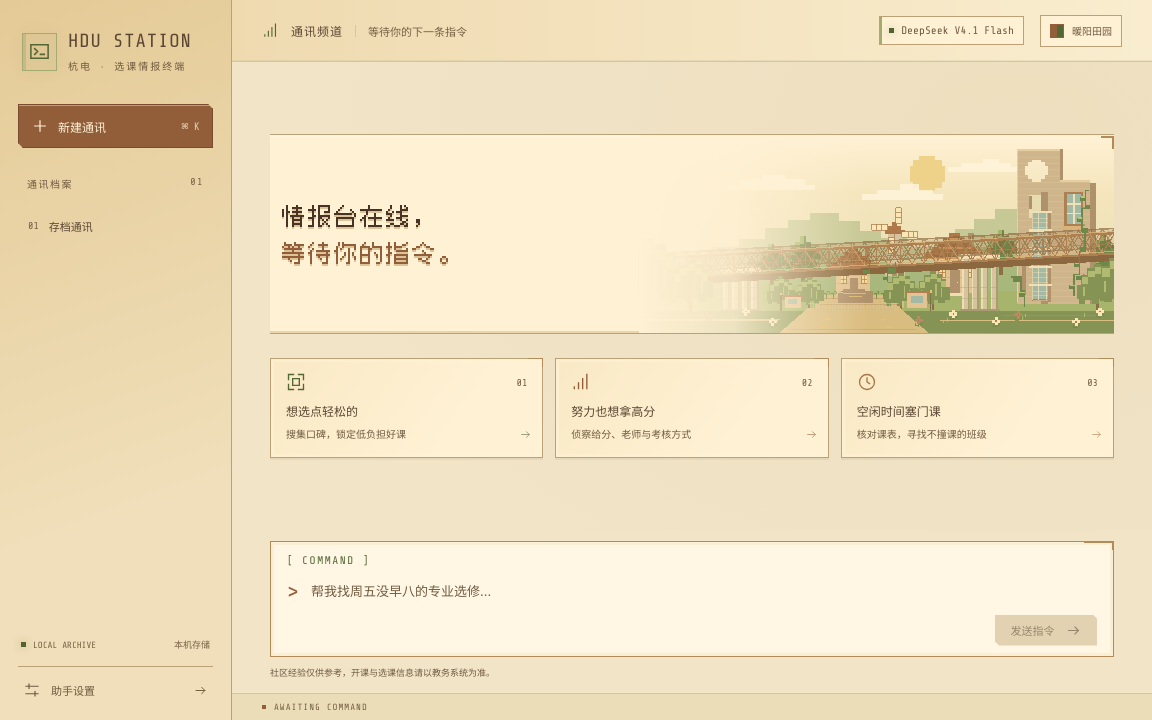
Test: parallel conversations › completes a pending switch even when the outgoing answer finishes during loading
Expected: the button "01 存档通讯" is shown, [19,206,212,246]
Step 1. Type "当前的问题" into the text box named "选课问题" → (704, 593), box [311,579,1097,607]
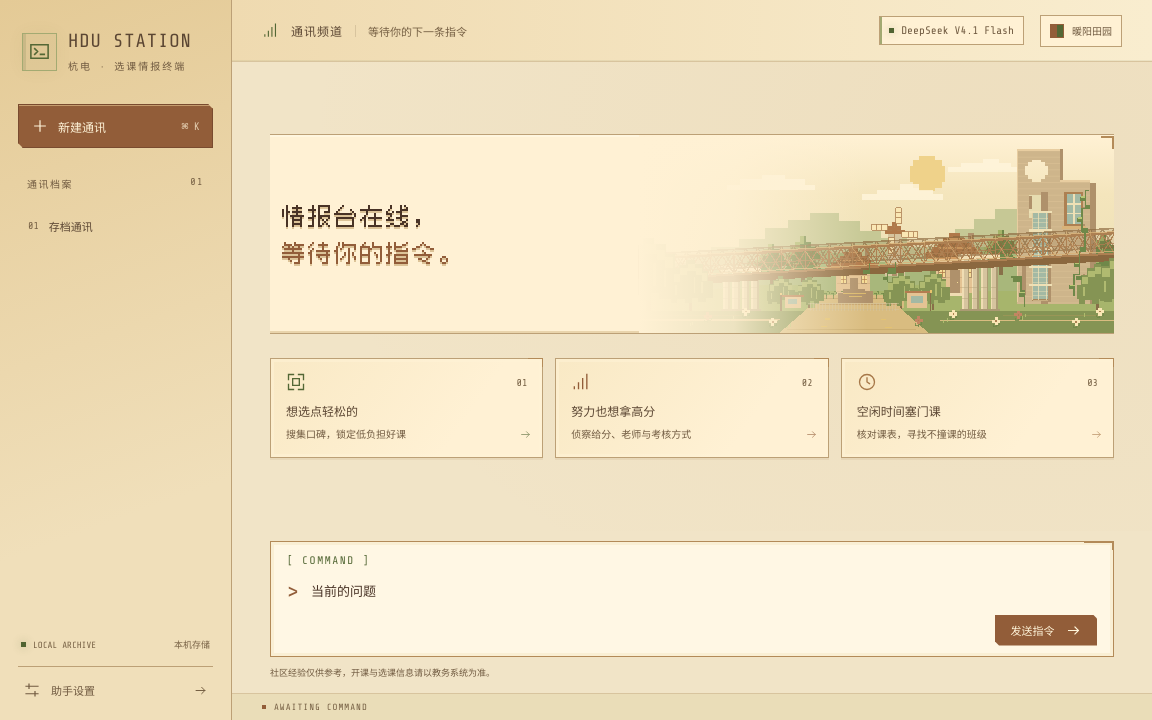
Step 2. Click the button with aria-label "发送问题" → (1046, 630), box [995,615,1097,646]
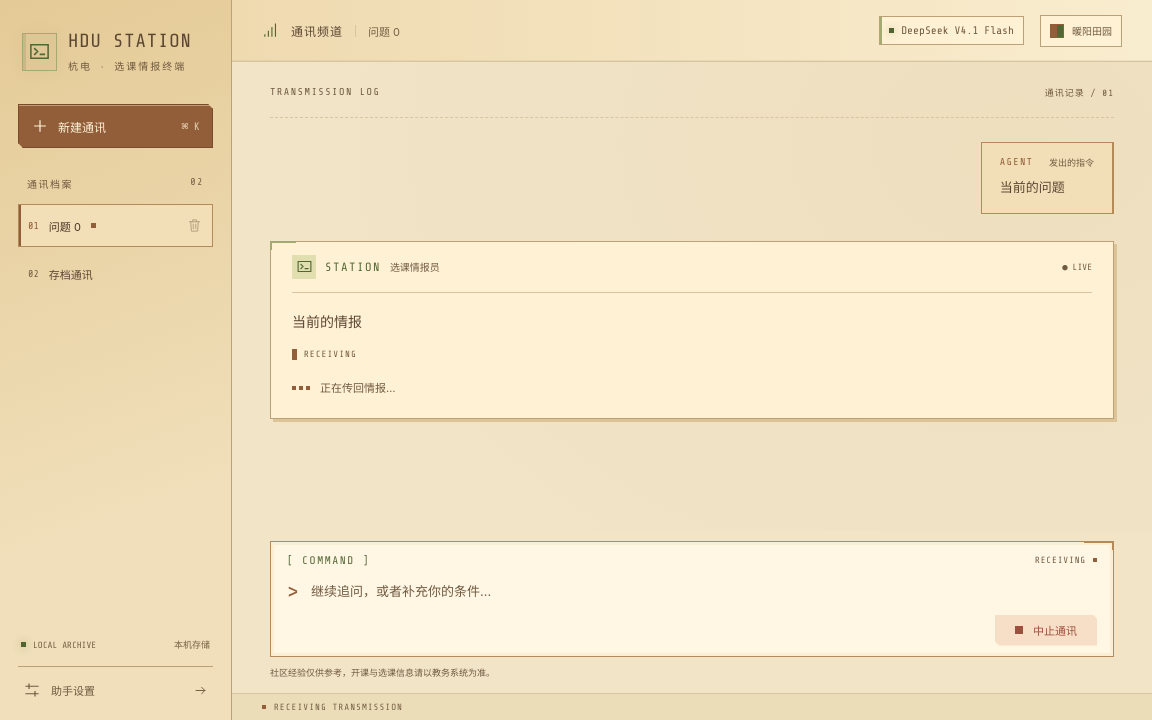
Step 3. Click the button "02 存档通讯" → (116, 274), box [19,254,212,294]
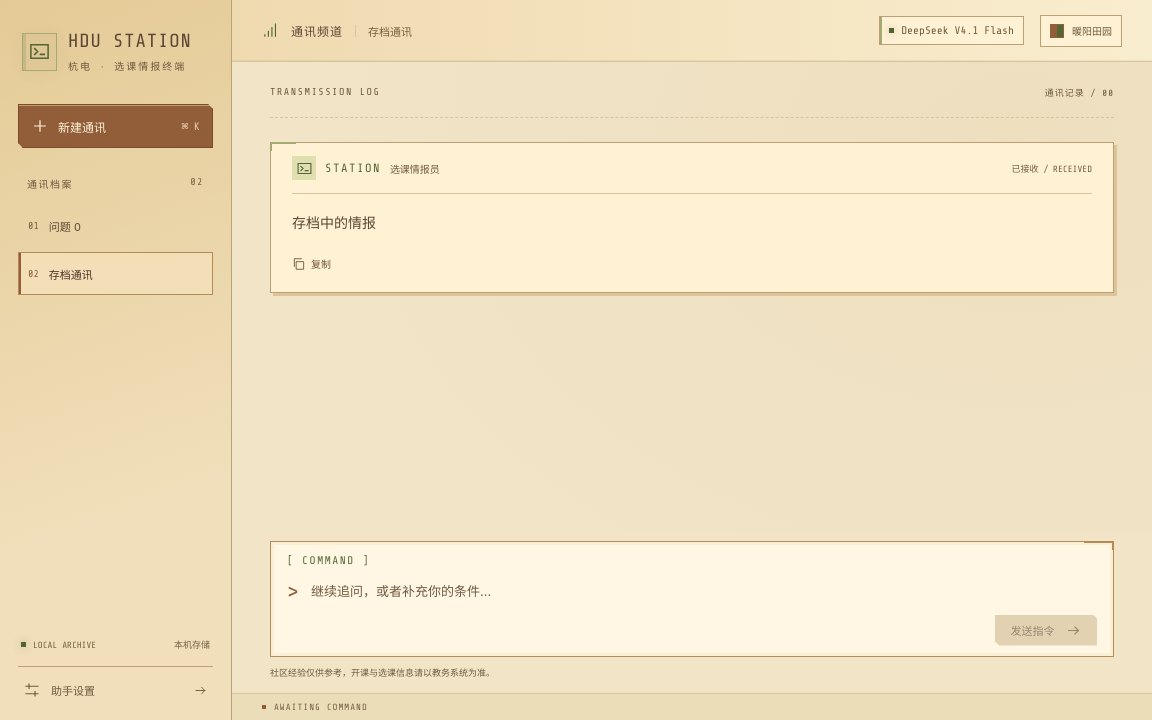
Now the text "存档中的情报" is shown, box [292,214,376,231]
Now the message "正在传回情报…" is gone
